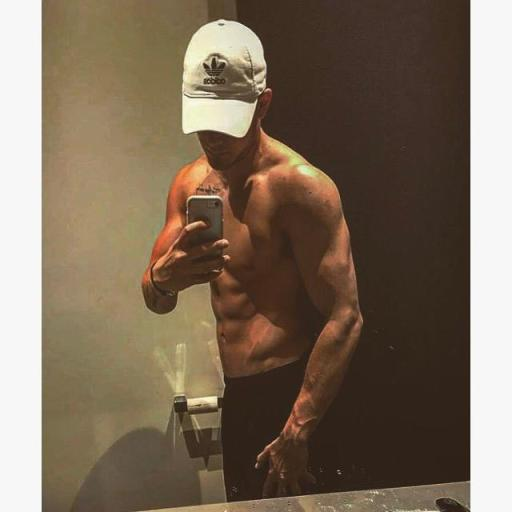Adidas: (200, 54, 230, 88)
